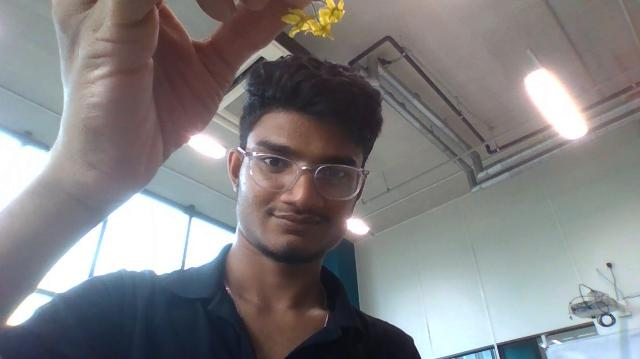Anthesis: (311, 0, 345, 37), (281, 8, 316, 37), (289, 23, 311, 38)
